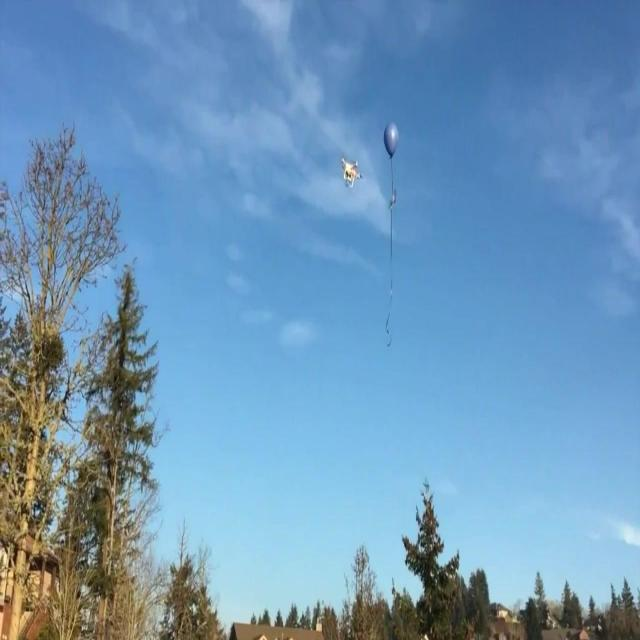drone: (338, 156, 363, 193)
